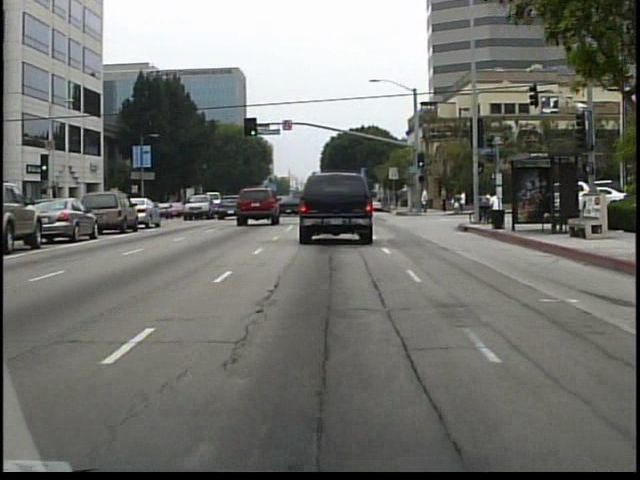person: (419, 184, 433, 217), (439, 181, 451, 215), (398, 186, 399, 211)
